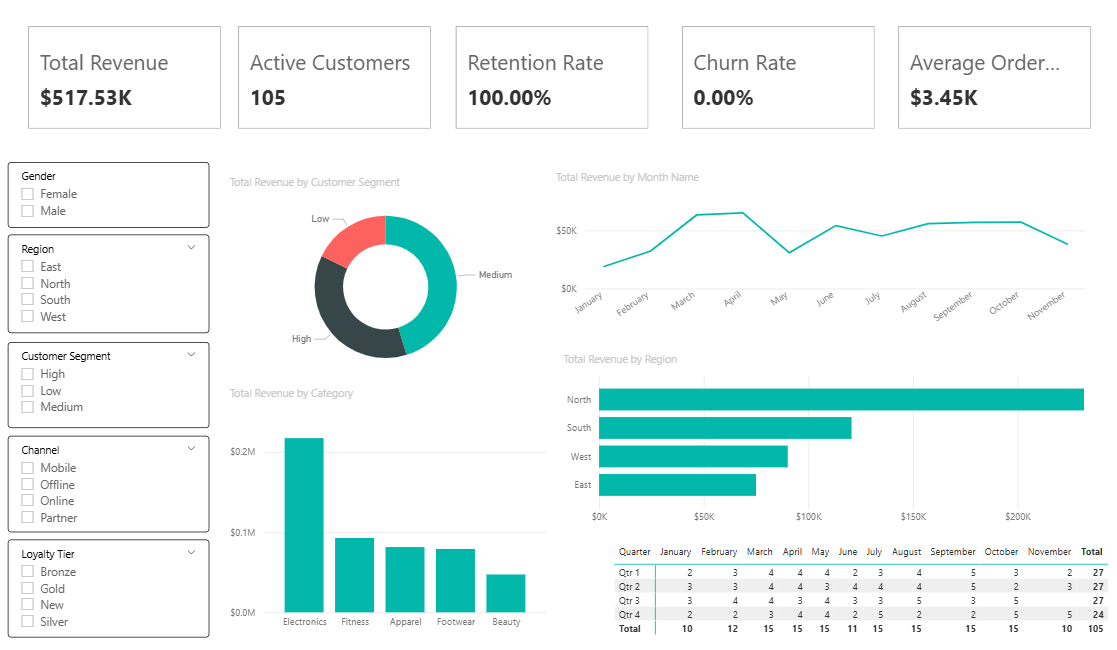

Layout of this report page (visuals, bound fields, positions):
{"tool":"powerbi","page":{"name":"Customer Overview","canvas":[1280,720],"ordinal":0},"visuals":[{"type":"slicer","fields":{"Values":["Customers.Gender"]},"box":[10,160,230,75],"z":0},{"type":"slicer","fields":{"Values":["Customers.Region"]},"box":[10,243,230,113],"z":1000},{"type":"slicer","fields":{"Values":["Customers.Loyalty Tier"]},"box":[10,591,230,112],"z":2000},{"type":"slicer","fields":{"Values":["Customers.Channel"]},"box":[10,473,230,110],"z":3000},{"type":"slicer","fields":{"Values":["Customers.Customer Segment"]},"box":[10,366,230,98],"z":4000},{"type":"cardVisual","fields":{"Data":["Transactions.Total Revenue"]},"box":[28,0,230,127.1],"z":5000},{"type":"cardVisual","fields":{"Data":["Transactions.Active Customers"]},"box":[268,0,230,127.1],"z":6000},{"type":"cardVisual","fields":{"Data":["Transactions.Retention Rate"]},"box":[516.6,0,230,127.1],"z":7000},{"type":"cardVisual","fields":{"Data":["Transactions.Churn Rate"]},"box":[775.1,0,230,127.1],"z":8000},{"type":"cardVisual","fields":{"Data":["Transactions.Average Order Value"]},"box":[1022.3,0,230,127.1],"z":9000},{"type":"clusteredColumnChart","fields":{"Category":["Transactions.Category"],"Y":["Transactions.Total Revenue"]},"box":[258.6,415.7,372.9,287.1],"z":9001},{"type":"donutChart","fields":{"Category":["Customers.Customer Segment"],"Y":["Transactions.Total Revenue"]},"box":[258.6,174.3,367.1,241.4],"z":9002},{"type":"lineChart","fields":{"Category":["DateTable.Month Name"],"Y":["Transactions.Total Revenue"]},"box":[631.4,168.6,615.7,187.1],"z":9003},{"type":"clusteredBarChart","fields":{"Y":["Transactions.Total Revenue"],"Category":["Customers.Region"]},"box":[640,377.1,640,205.7],"z":9004},{"type":"pivotTable","fields":{"Rows":["Customers.Join Date.Variation.Date Hierarchy.Quarter"],"Columns":["DateTable.Month Name"],"Values":["Transactions.Active Customers"]},"box":[698.6,591.4,581.4,115.7],"z":9005}]}

Visuals, with their boxes on the page's 1280x720 design canvas (x1, y1, x2, y2). These are canvas units, not pixel positions in the 1117x650 screenshot, which may show the page scaled, cropped or inside an application window:
slicer - Customers.Gender: 10, 160, 240, 235
slicer - Customers.Region: 10, 243, 240, 356
slicer - Customers.Loyalty Tier: 10, 591, 240, 703
slicer - Customers.Channel: 10, 473, 240, 583
slicer - Customers.Customer Segment: 10, 366, 240, 464
cardVisual - Transactions.Total Revenue: 28, 0, 258, 127
cardVisual - Transactions.Active Customers: 268, 0, 498, 127
cardVisual - Transactions.Retention Rate: 517, 0, 747, 127
cardVisual - Transactions.Churn Rate: 775, 0, 1005, 127
cardVisual - Transactions.Average Order Value: 1022, 0, 1252, 127
clusteredColumnChart - Transactions.Category x Transactions.Total Revenue: 259, 416, 632, 703
donutChart - Customers.Customer Segment x Transactions.Total Revenue: 259, 174, 626, 416
lineChart - DateTable.Month Name x Transactions.Total Revenue: 631, 169, 1247, 356
clusteredBarChart - Transactions.Total Revenue x Customers.Region: 640, 377, 1280, 583
pivotTable - Customers.Join Date.Variation.Date Hierarchy.Quarter x DateTable.Month Name: 699, 591, 1280, 707
